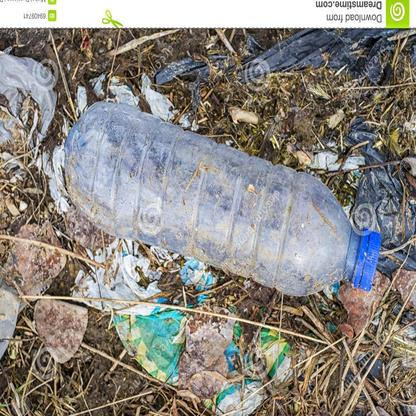plastic bottle: (63, 100, 380, 295)
